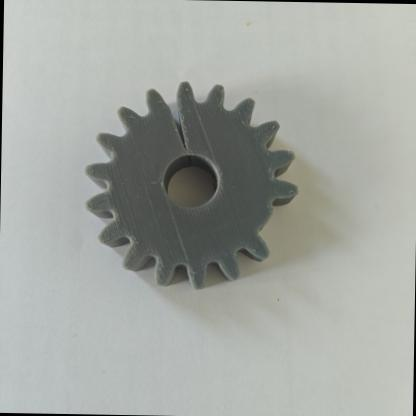defect: (130, 64, 233, 162), (226, 180, 312, 276)
gear: (74, 48, 320, 312)
